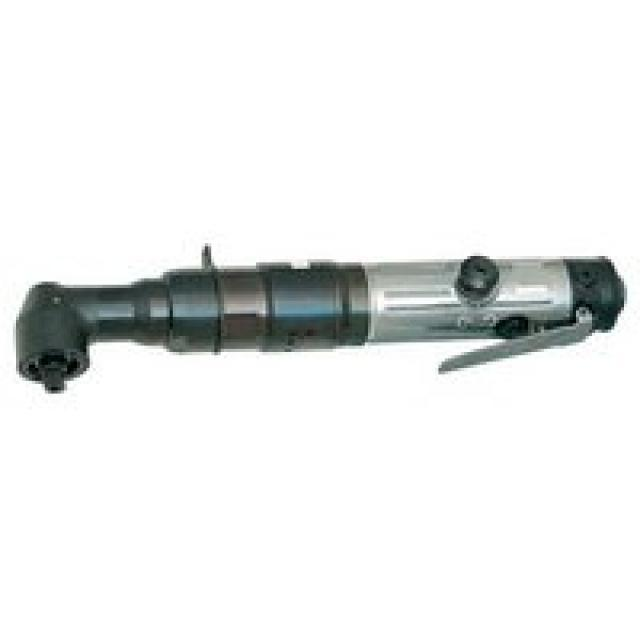wrench: (3, 239, 640, 406)
